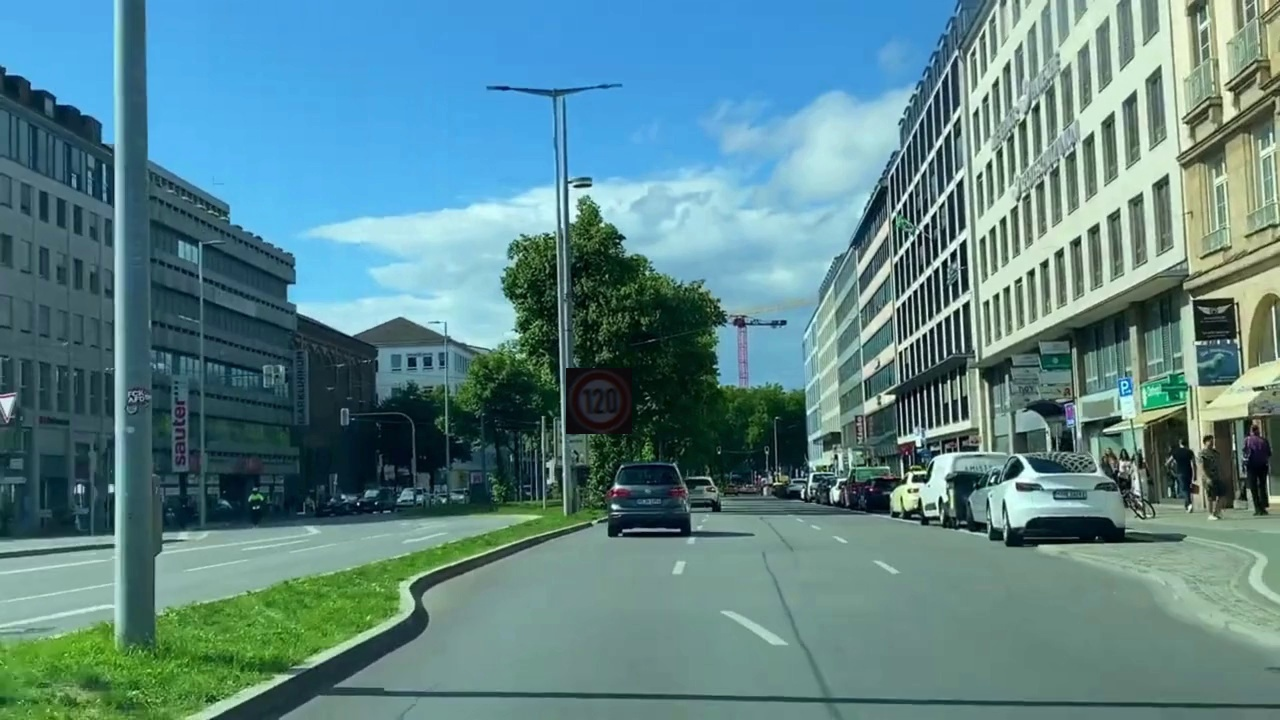Speed 120: (566, 368, 632, 434)
